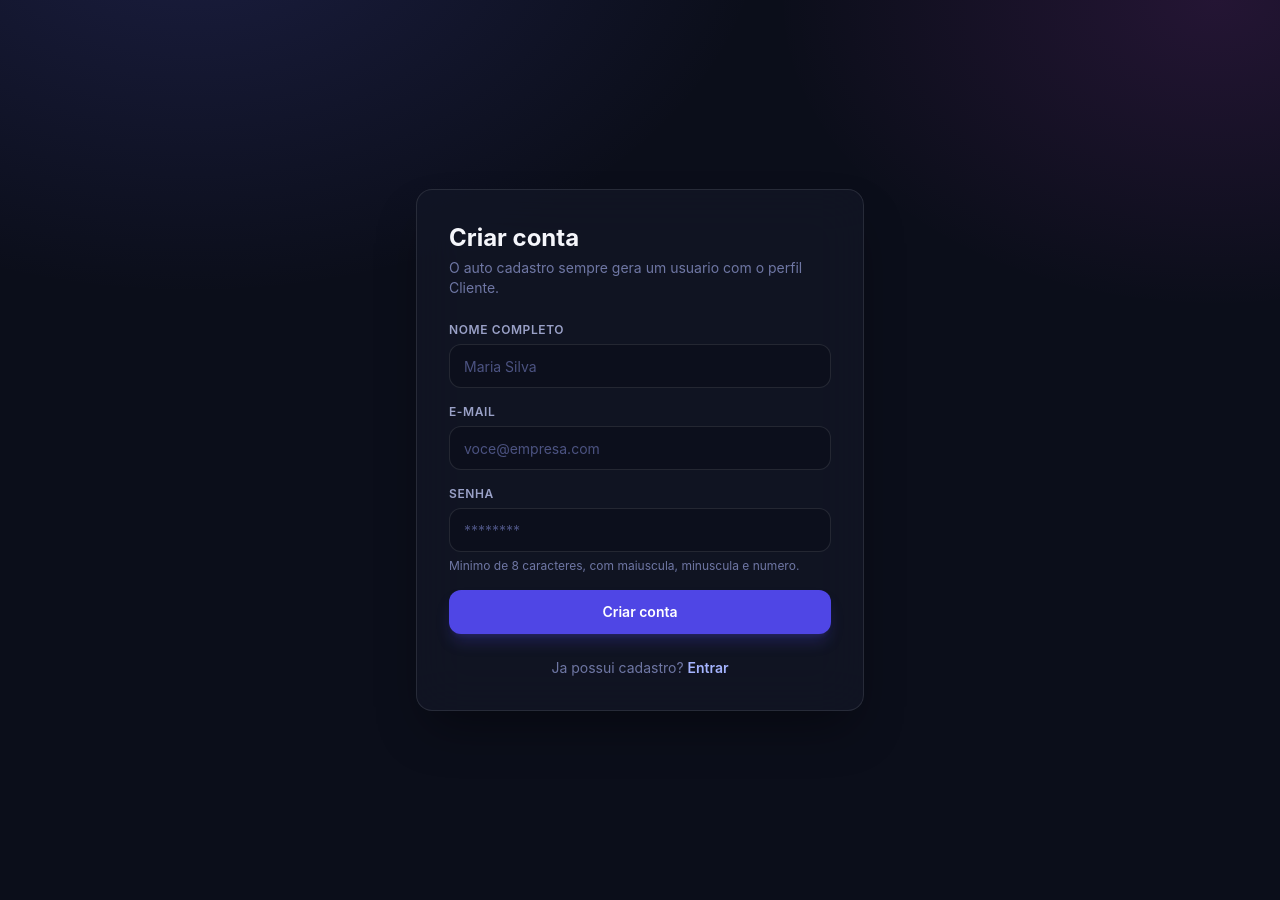
<Register /> › destaca o campo de senha quando a API recusa a forca da senha
In the field labelled "Nome completo": [640, 366] box left=449, top=344, right=831, bottom=388, type "Nova Pessoa"
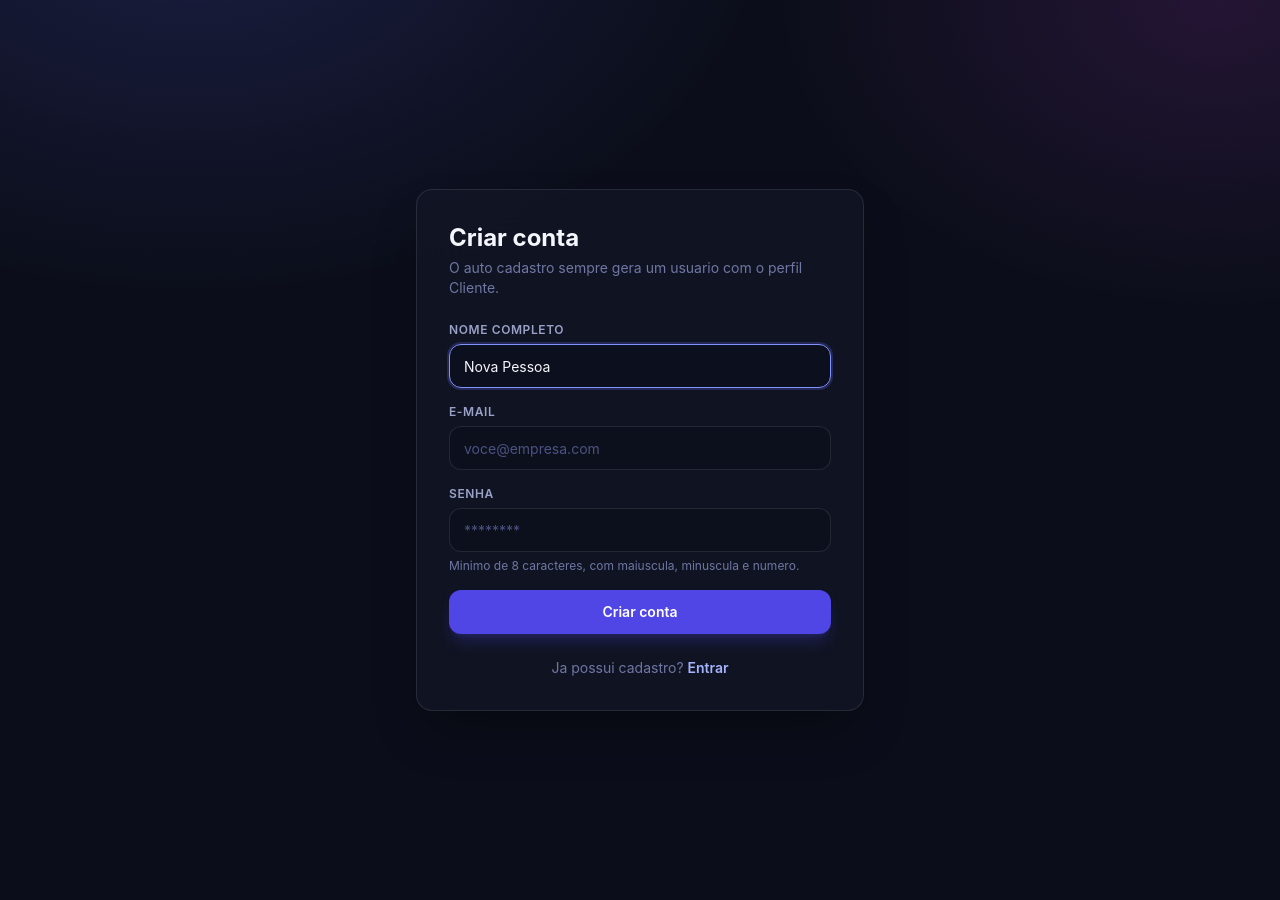
In the field labelled "E-mail": [640, 448] box left=449, top=426, right=831, bottom=470, type "nova@organizacion.dev"
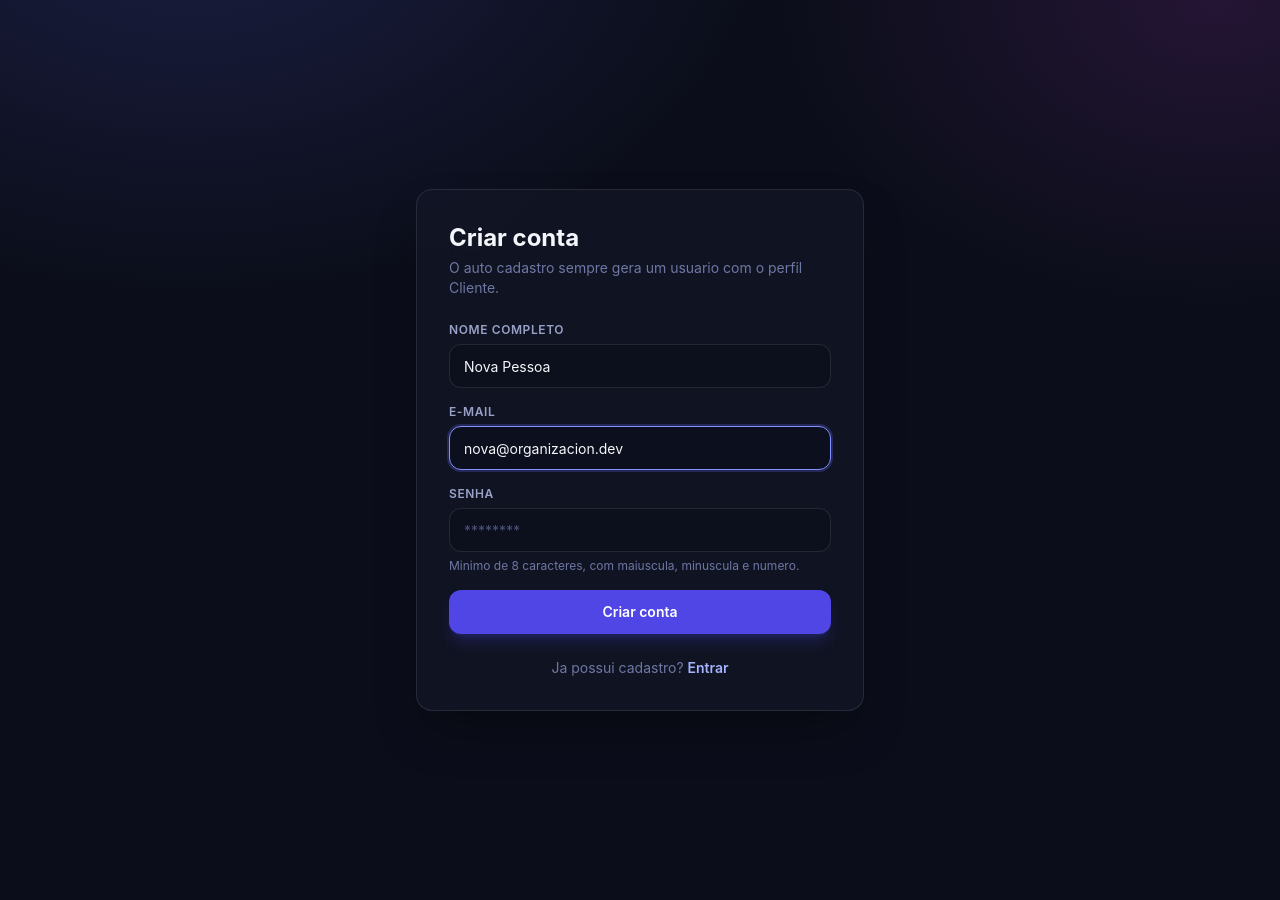
In the password field labelled "Senha": [640, 530] box left=449, top=508, right=831, bottom=552, type "123"
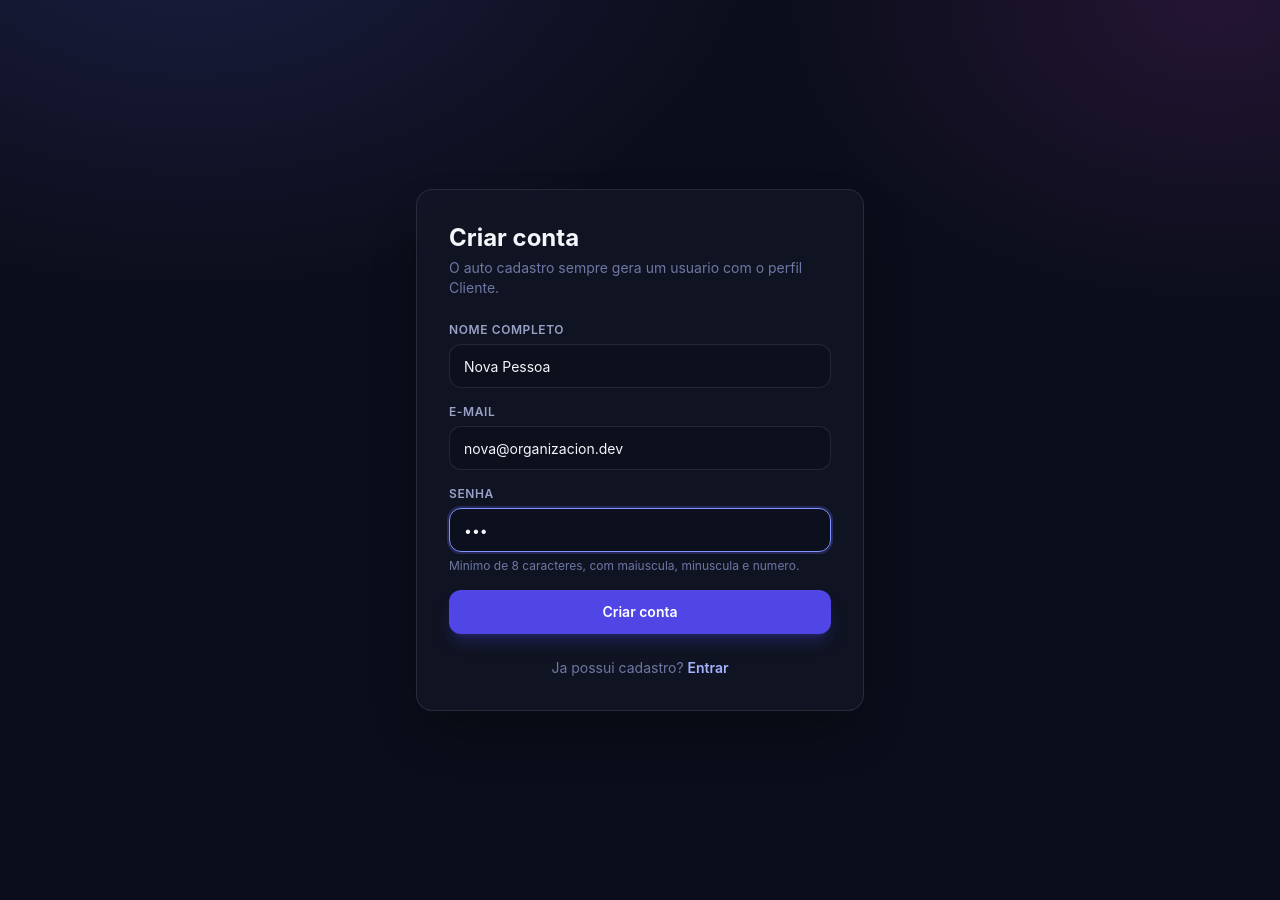
Click the button "Criar conta": [640, 612] box left=449, top=590, right=831, bottom=634
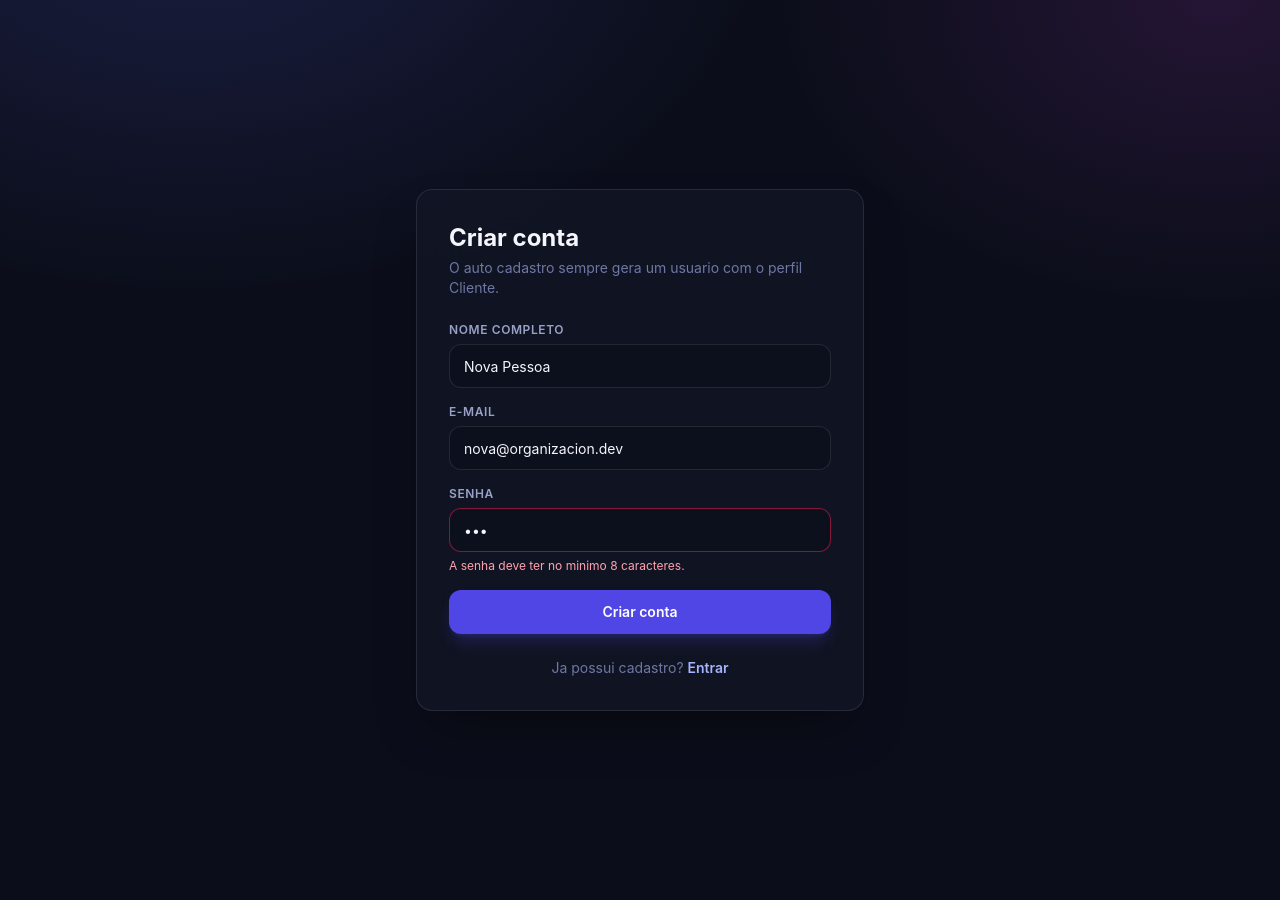
Result: the text "A senha deve ter no minimo 8 caracteres." is shown at left=449, top=558, right=685, bottom=573
